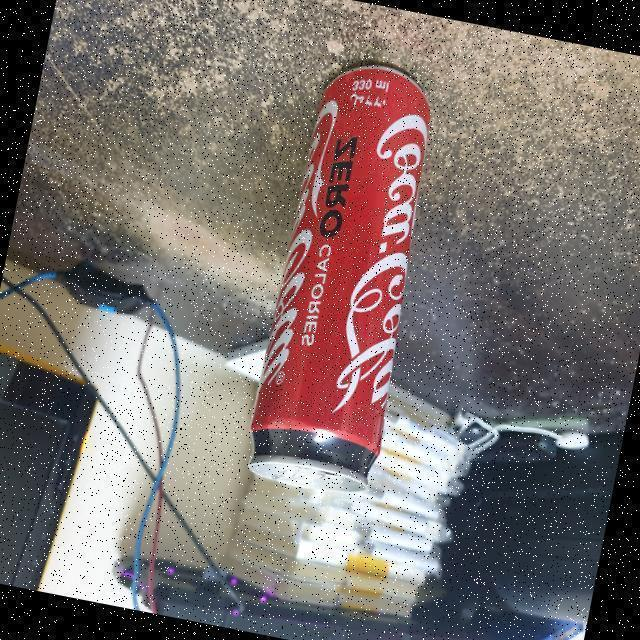Can: (248, 58, 436, 497)
